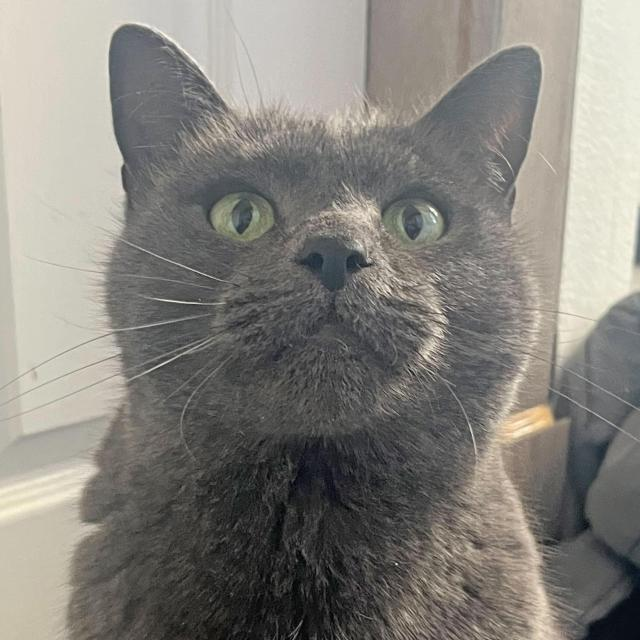russian_blue_cat: (81, 17, 563, 529)
